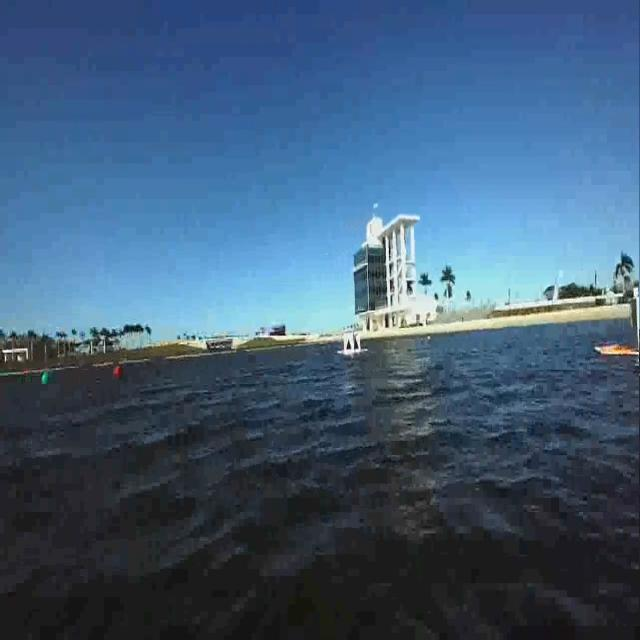green-buoy: (36, 366, 55, 393)
red-buoy: (107, 354, 126, 380)
